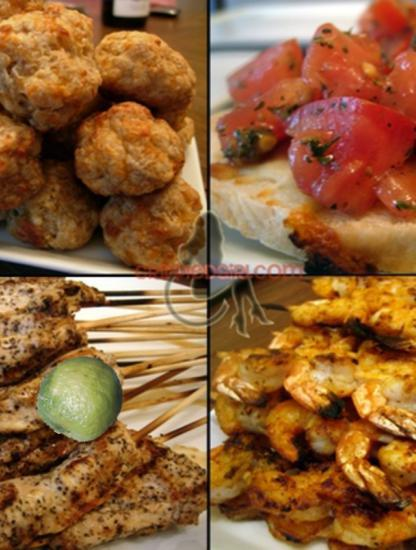Limes: (39, 355, 125, 441)
